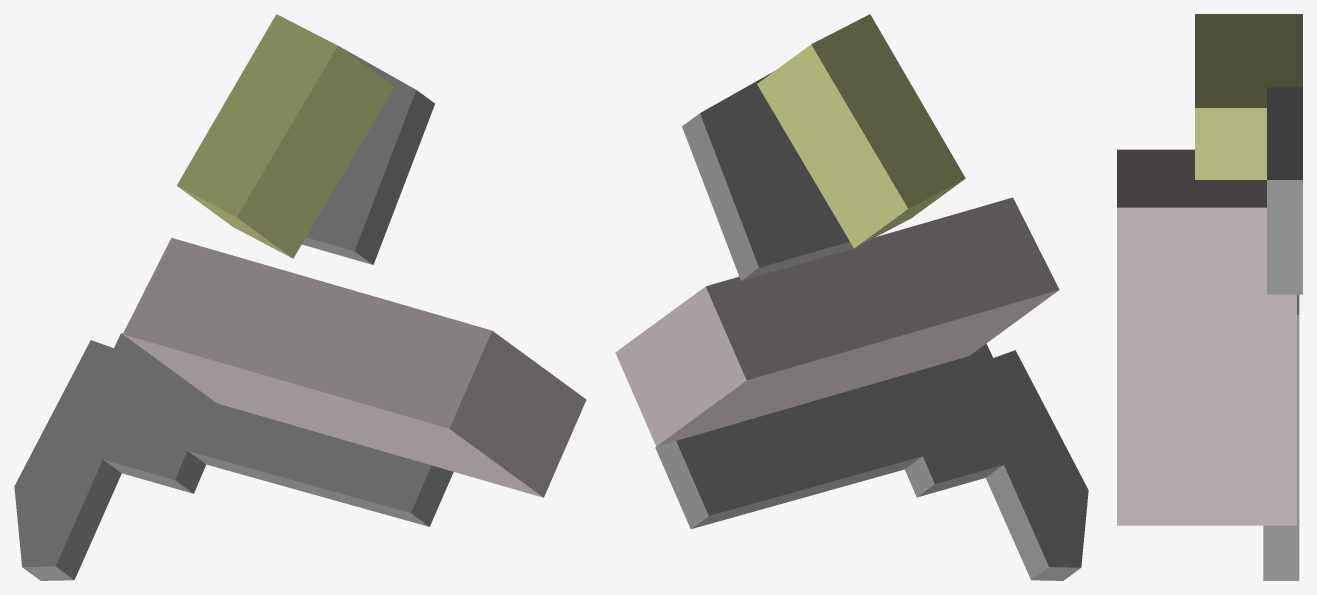
3 renders of one model, left to right at view 1: azimuth 30°, elevation 25°; view 2: azimuth 150°, elevation 25°; view 3: azimuth 270°, elevation 25°, orthographic. The views are drawn at different scales.
Parts seen in each view (by area): view 1: 0_1_0_0_2_2_2_2_2; view 2: 0_1_0_0_2_2_2_2_2; view 3: 0_1_0_0_2_2_2_2_2.
Boxes of the visible parts, bbox=[...] form: 0_1_0_0_2_2_2_2_2: bbox=[14, 14, 586, 580]; 0_1_0_0_2_2_2_2_2: bbox=[615, 14, 1088, 580]; 0_1_0_0_2_2_2_2_2: bbox=[1117, 14, 1302, 580].
Bounding box in the file's own units: 43.72 × 46.48 × 15.5.
